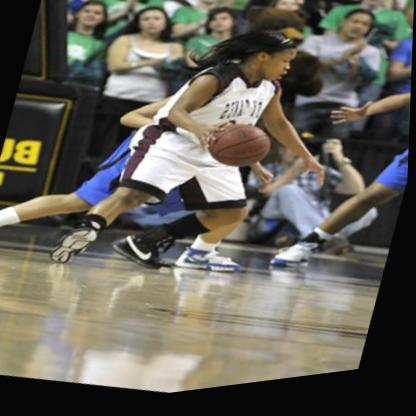basketball: (202, 121, 278, 186)
